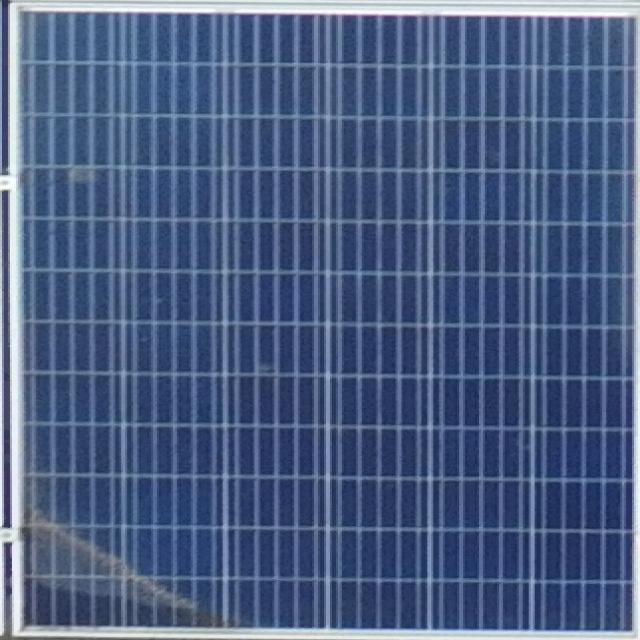Dust: (14, 484, 255, 635)
bird-droppings: (56, 158, 112, 192)
